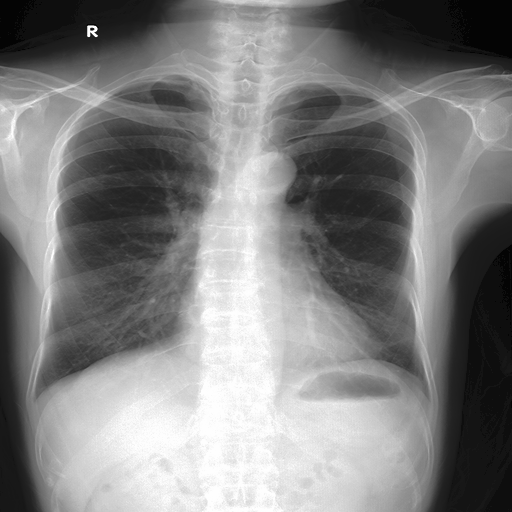Calcification: (302, 78, 383, 96), (117, 70, 204, 86)
Consolidation: (251, 149, 295, 193)
Nodule/Mass: (175, 281, 379, 362)
Pneumothorax: (387, 336, 415, 346)
